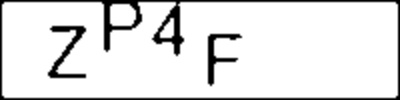4: (151, 1, 189, 58)
F: (202, 28, 246, 88)
P: (98, 1, 147, 55)
Z: (43, 20, 94, 83)
